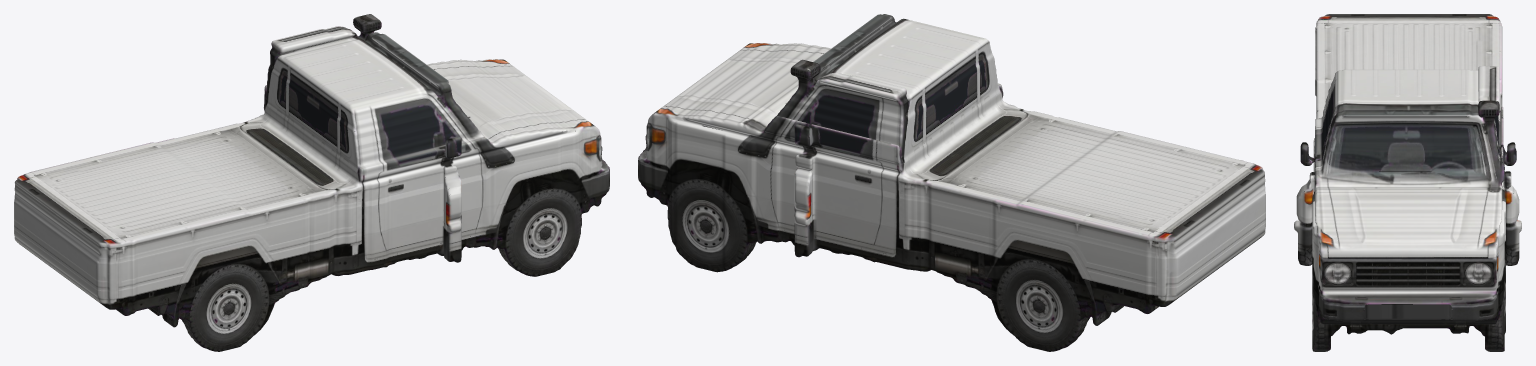
File: shas.glb
The picture shows the model from 3 angles, left to right: view 1: azimuth 30°, elevation 25°; view 2: azimuth 150°, elevation 25°; view 3: azimuth 270°, elevation 25°; orthographic projection. The views are drawn at different scales.
Visible parts, largest first — view 1: shas; view 2: shas; view 3: shas.
Part boxes in pixels (x1=…): shas: x1=14, y1=14, x2=609, y2=351; shas: x1=638, y1=14, x2=1265, y2=351; shas: x1=1294, y1=14, x2=1521, y2=351.
Bounding box in the file's own units: 5.22 × 2.04 × 2.08.
1 material, 1 textured.
